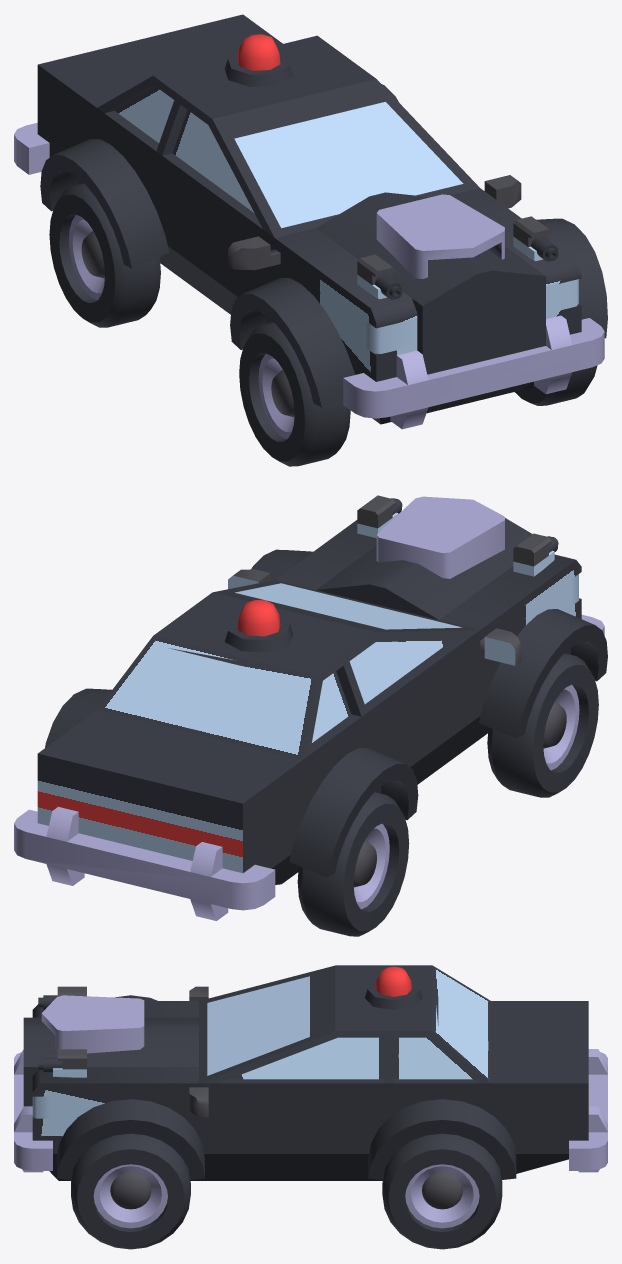
Rendered from hotrod-black-2.glb.
3 views of the same model, one above another, from view 1: azimuth 30°, elevation 25°; view 2: azimuth 150°, elevation 25°; view 3: azimuth 270°, elevation 25° (orthographic). The views are drawn at different scales.
Parts seen in each view (by area): view 1: body_topSports, body_frontLuxury, wheel_classic (×3), wheel_coverStandard (×3), body_backSolid, bumper_detailed (×2), body_standard, detail_engine, body_topBackStandard, blaster_barrel (×2), detail_siren, detail_mirror (×2); view 2: body_backSolid, body_topBackStandard, wheel_classic (×2), wheel_coverStandard (×4), body_frontLuxury, body_topSports, bumper_detailed, body_standard, detail_engine, blaster_barrel (×2), detail_siren, detail_mirror (×2); view 3: wheel_classic (×2), body_topSports, body_standard, body_backSolid, body_frontLuxury, wheel_coverStandard (×2), body_topBackStandard, bumper_detailed (×2), detail_engine, detail_siren, blaster_barrel (×2), detail_mirror.
Boxes of the visible parts, x1,y1,x2,y2 form: body_topSports: (156,53,479,237); body_frontLuxury: (275,188,581,424); wheel_classic (×3): (49,183,597,466); wheel_coverStandard (×3): (40,139,607,407); body_backSolid: (37,14,282,274); bumper_detailed (×2): (14,122,604,429); body_standard: (156,151,274,314); detail_engine: (376,194,504,278); body_topBackStandard: (97,35,340,142); blaster_barrel (×2): (357,216,558,299); detail_siren: (224,34,293,86); detail_mirror (×2): (228,175,521,270); body_backSolid: (37,710,361,884); body_topBackStandard: (97,618,351,760); wheel_classic (×2): (297,653,598,936); wheel_coverStandard (×4): (45,549,607,877); body_frontLuxury: (275,518,581,753); body_topSports: (177,580,479,716); bumper_detailed: (14,806,275,920); body_standard: (361,630,480,784); detail_engine: (376,496,504,578); blaster_barrel (×2): (357,495,558,576); detail_siren: (224,599,293,652); detail_mirror (×2): (228,569,521,665); wheel_classic (×2): (71,1133,502,1249); body_topSports: (199,965,393,1083); body_standard: (199,1079,393,1180); body_backSolid: (393,1001,588,1173); body_frontLuxury: (23,1001,198,1180); wheel_coverStandard (×2): (57,1099,516,1179); body_topBackStandard: (393,965,490,1083); bumper_detailed (×2): (14,1049,607,1172); detail_engine: (41,995,144,1053); detail_siren: (364,966,422,1010); blaster_barrel (×2): (38,986,86,1077); detail_mirror: (189,1087,208,1117).
Size of the model in its own units: 1.51 by 1.27 by 3.05.
Materials: 1 (1 with a texture image).
